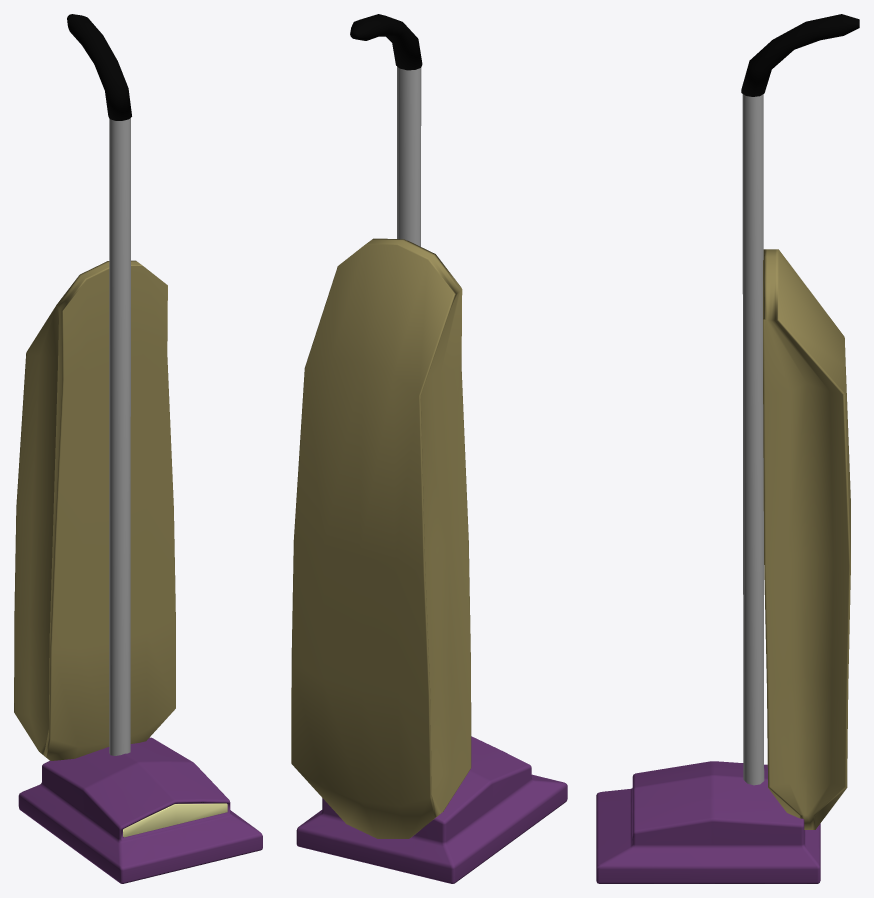
The model's file is VacuumCleaner_Model.fbx.
The picture shows the model from 3 angles, left to right: view 1: azimuth 30°, elevation 25°; view 2: azimuth 150°, elevation 25°; view 3: azimuth 270°, elevation 25°; orthographic projection. The views are drawn at different scales.
Parts seen in each view (by area): view 1: pCube2, pCube3, polySurface1, polySurface2, pCube4; view 2: pCube2, pCube3, polySurface1, polySurface2; view 3: pCube2, pCube3, polySurface1, polySurface2.
Boxes of the visible parts, left/top/right/bottom form: pCube2: left=14, top=260, right=175, bottom=760; pCube3: left=18, top=737, right=262, bottom=883; polySurface1: left=109, top=118, right=130, bottom=755; polySurface2: left=67, top=14, right=131, bottom=120; pCube4: left=123, top=803, right=227, bottom=837; pCube2: left=291, top=238, right=471, bottom=838; pCube3: left=296, top=736, right=567, bottom=883; polySurface1: left=397, top=66, right=421, bottom=246; polySurface2: left=350, top=14, right=422, bottom=70; pCube2: left=763, top=249, right=850, bottom=829; pCube3: left=596, top=761, right=820, bottom=883; polySurface1: left=742, top=94, right=764, bottom=785; polySurface2: left=741, top=14, right=859, bottom=96.
Size of the model in its own units: 0.5986 by 3.08 by 0.884.
